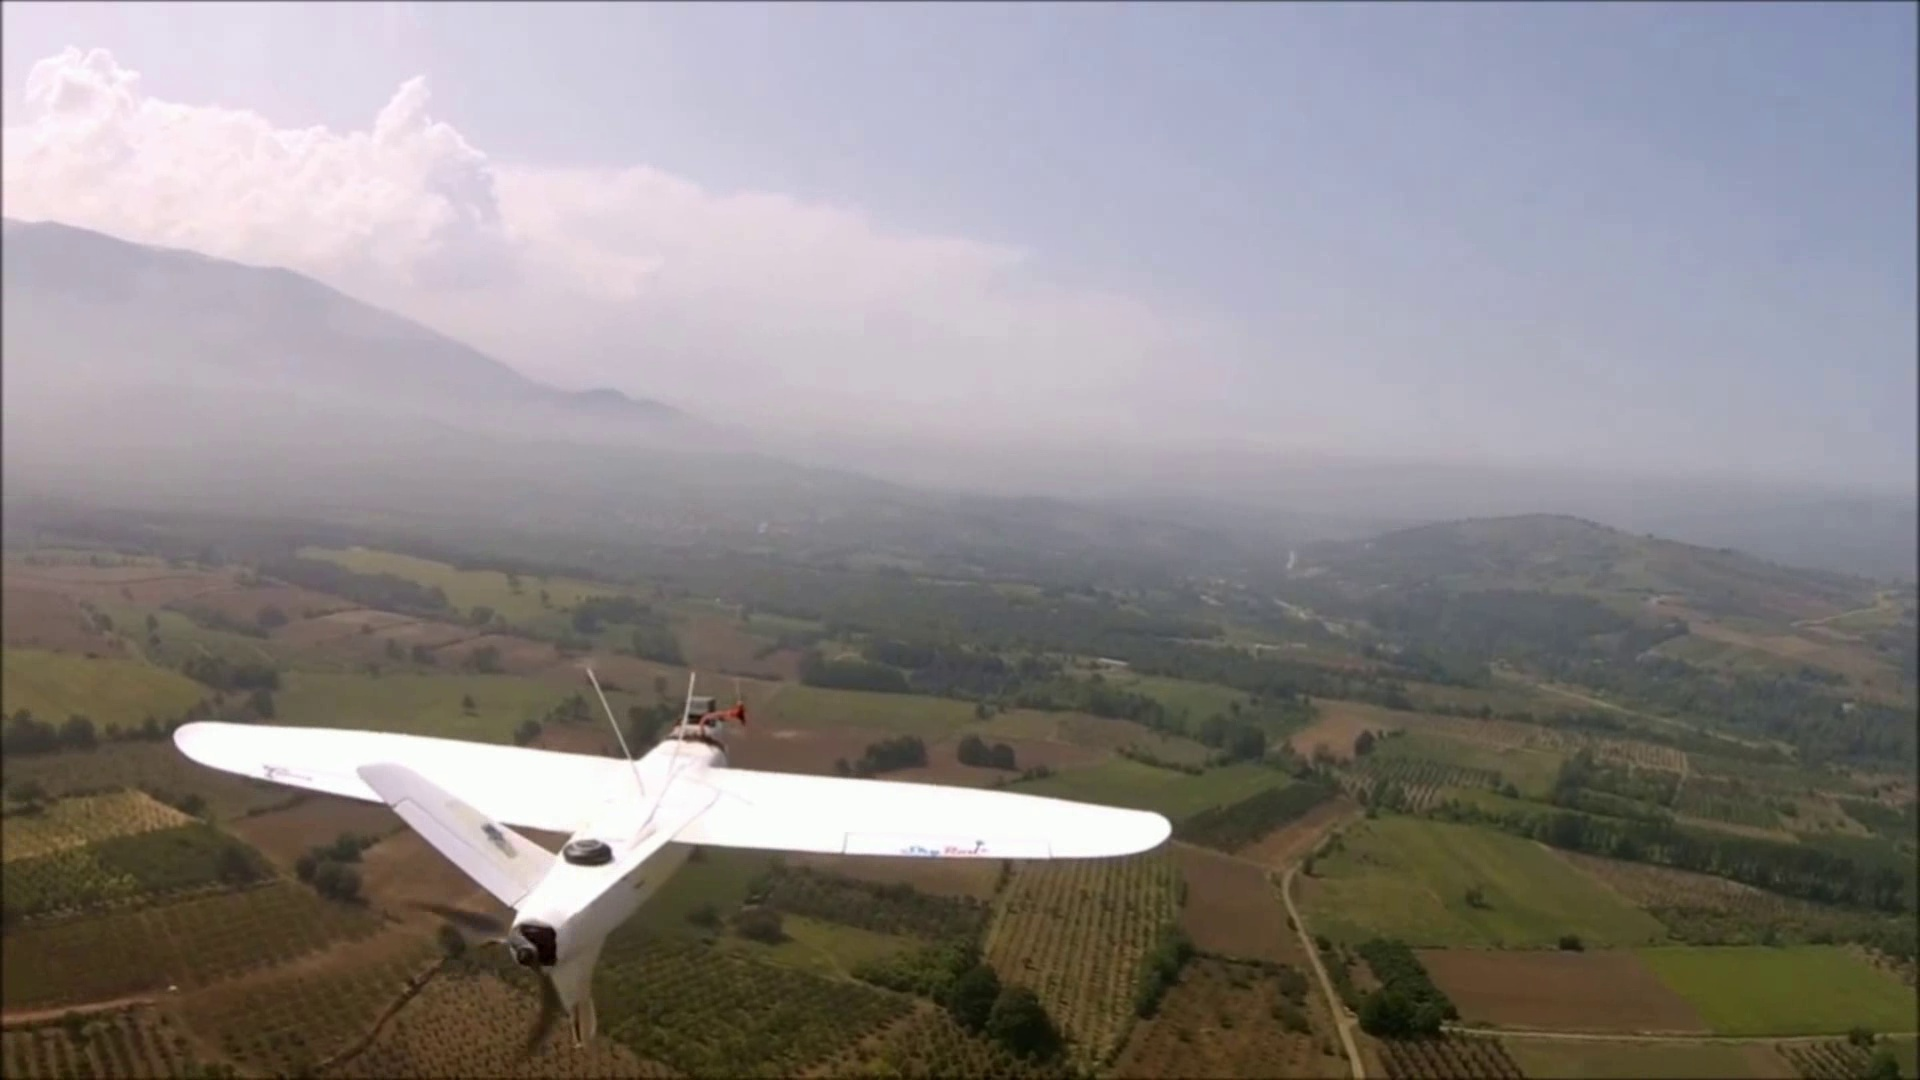airplane: (177, 698, 1175, 1047)
